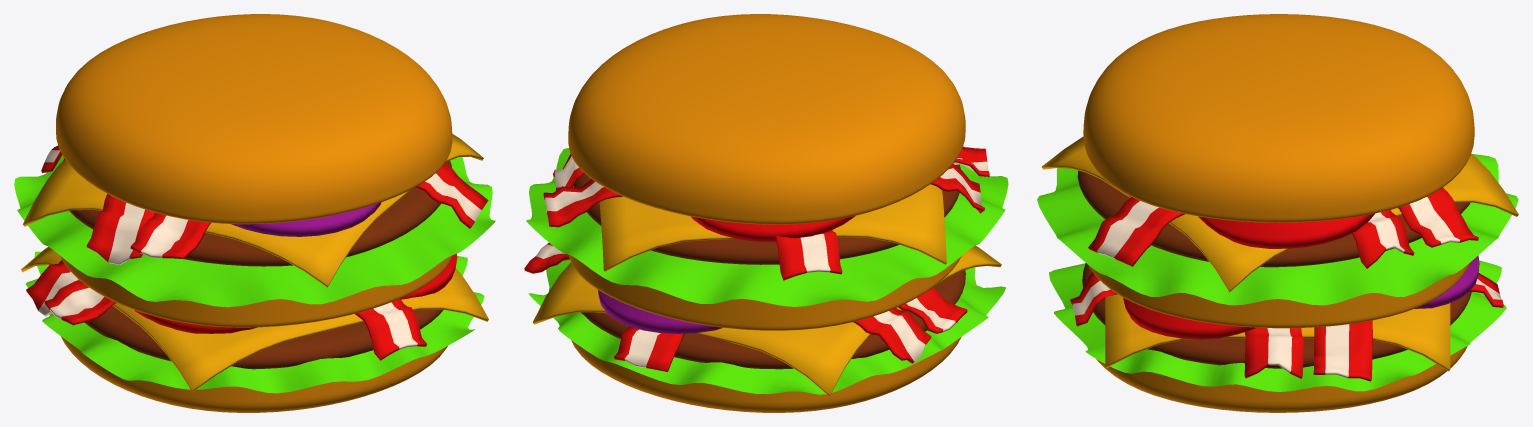
Rendered from hamburgerJoin.glb.
The picture shows the model from 3 angles, left to right: view 1: azimuth 30°, elevation 25°; view 2: azimuth 150°, elevation 25°; view 3: azimuth 270°, elevation 25°; orthographic projection.
Parts seen in each view (by area): view 1: hamburguerJoin; view 2: hamburguerJoin; view 3: hamburguerJoin.
Boxes of the visible parts, bbox=[...] form: hamburguerJoin: bbox=[14, 14, 495, 412]; hamburguerJoin: bbox=[524, 14, 1008, 412]; hamburguerJoin: bbox=[1037, 14, 1518, 412].
Bounding box in the file's own units: 11.13 × 7.35 × 11.24.
